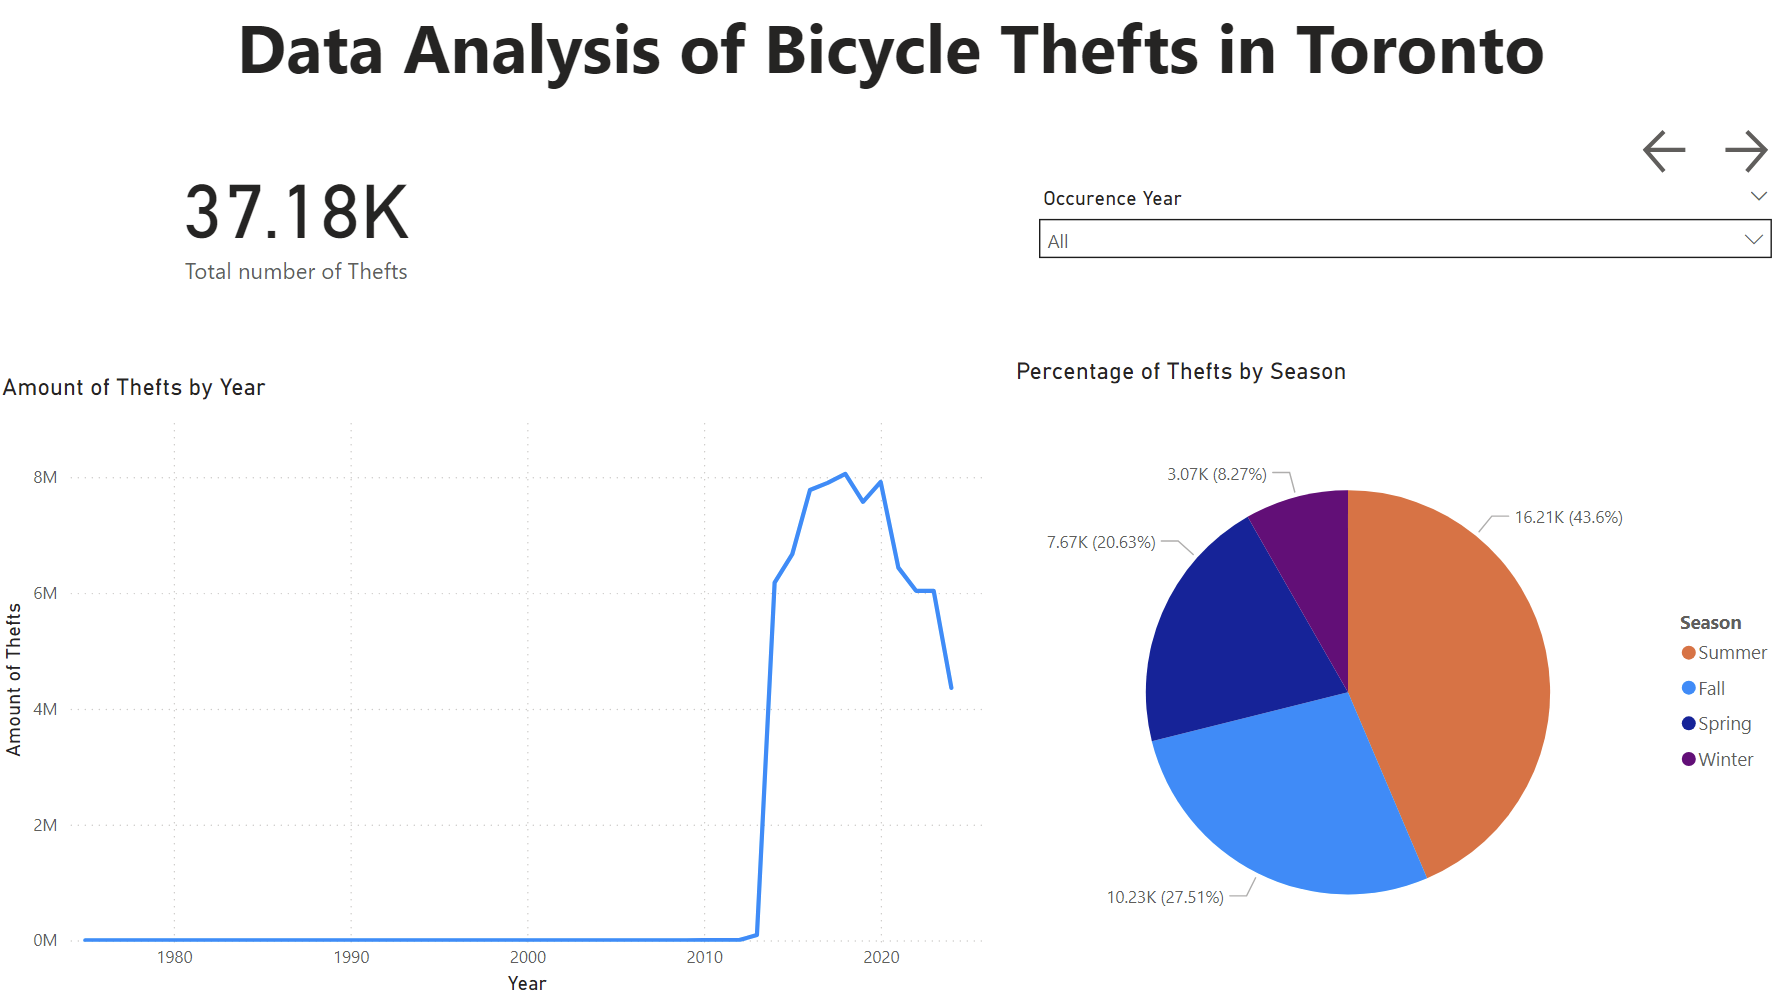

The page's visual inventory and layout, read from the dashboard file:
{"tool":"powerbi","page":{"name":"Overview","canvas":[1280,720],"ordinal":0},"visuals":[{"type":"card","fields":{"Values":["CountNonNull(Bicycle_Thefts.OBJECTID)"]},"box":[0,91,430.4,136.5],"z":0},{"type":"slicer","fields":{"Values":["Bicycle_Thefts.OCC_YEAR"]},"box":[736.4,133.1,543.3,80.7],"z":1000},{"type":"lineChart","fields":{"Category":["Bicycle_Thefts.OCC_YEAR"],"Y":["Sum(Bicycle_Thefts.OCC_YEAR)"]},"box":[0,271.2,713.8,448.8],"z":1001},{"type":"pieChart","fields":{"Category":["Bicycle_Thefts.SEASON"],"Y":["CountNonNull(Bicycle_Thefts.SEASON)"]},"box":[723.8,260,556.2,460],"z":1002},{"type":"textbox","box":[0,0,1280,91],"z":1003},{"type":"actionButton","box":[1173,92.2,45.5,40.6],"z":1004},{"type":"actionButton","box":[1229.6,92.2,50.4,40.6],"z":1005}]}

Visuals, with their boxes in screenshot pixels (x1, y1, x2, y2), scaled from the page's 1280x720 canvas onto the 1785x997 screenshot:
card - CountNonNull(Bicycle_Thefts.OBJECTID): [x1=0, y1=126, x2=600, y2=315]
slicer - Bicycle_Thefts.OCC_YEAR: [x1=1027, y1=184, x2=1784, y2=296]
lineChart - Bicycle_Thefts.OCC_YEAR x Sum(Bicycle_Thefts.OCC_YEAR): [x1=0, y1=376, x2=995, y2=996]
pieChart - Bicycle_Thefts.SEASON x CountNonNull(Bicycle_Thefts.SEASON): [x1=1009, y1=360, x2=1784, y2=996]
textbox: [x1=0, y1=0, x2=1784, y2=126]
actionButton: [x1=1636, y1=128, x2=1699, y2=184]
actionButton: [x1=1715, y1=128, x2=1784, y2=184]
